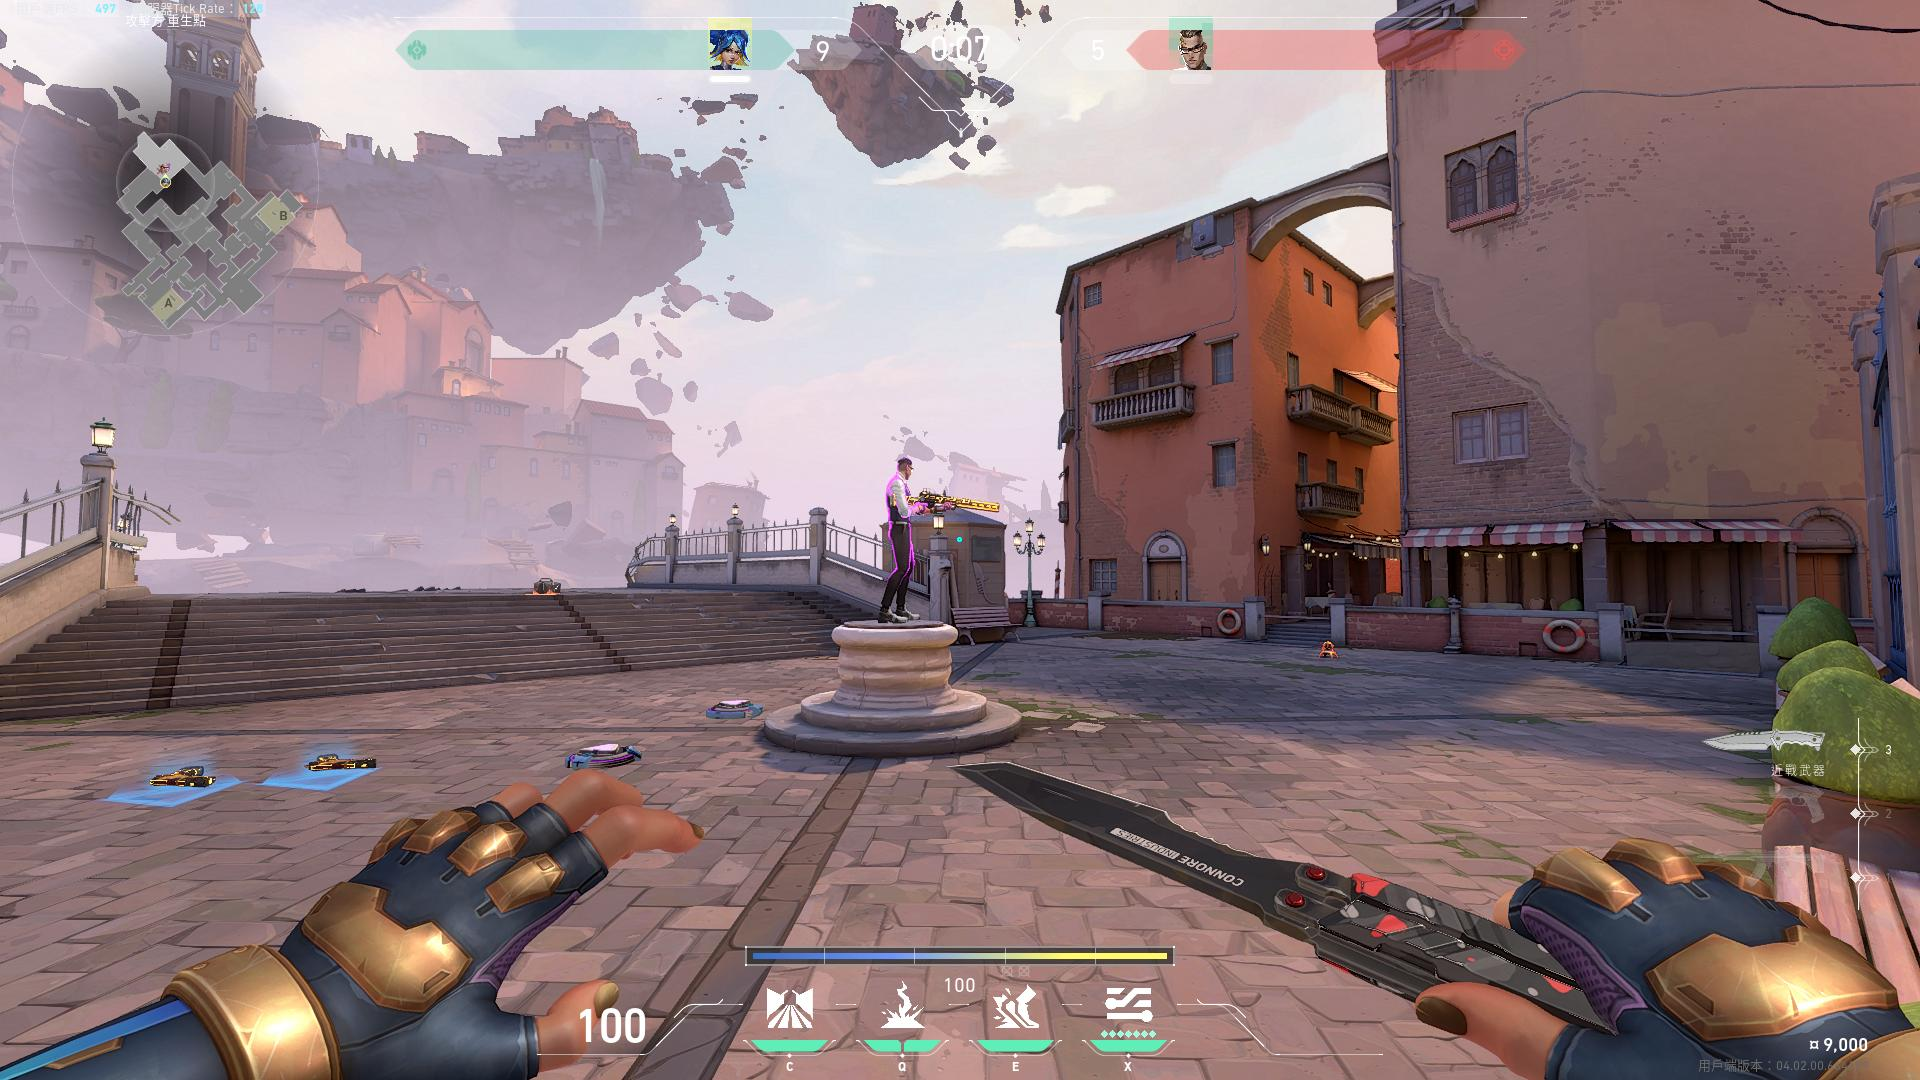enemyBody: (891, 488, 913, 524)
enemyHead: (899, 456, 913, 483)
